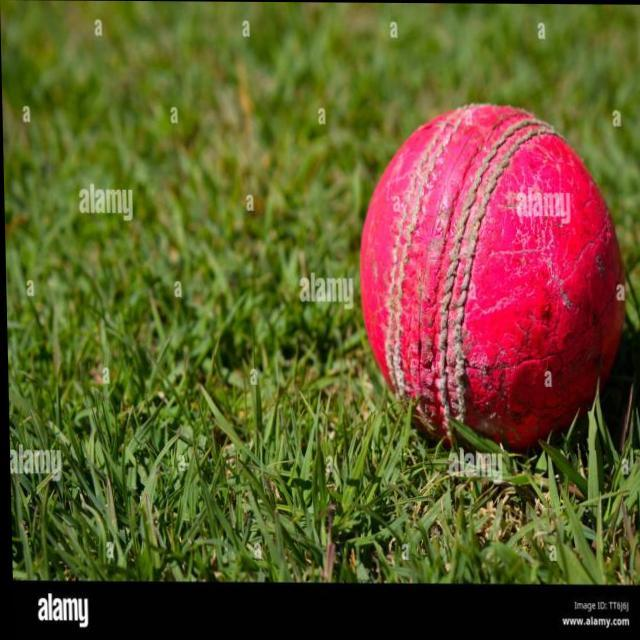cricket ball: (359, 103, 622, 449)
